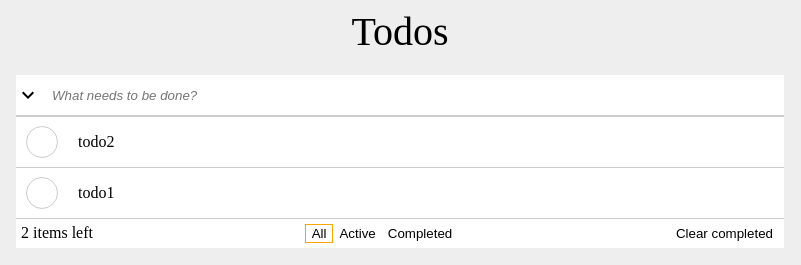
it: App component test › should toggle showed todos
Step 1. Click the button "Active" → coordinates (358, 234), box [334,225,382,242]
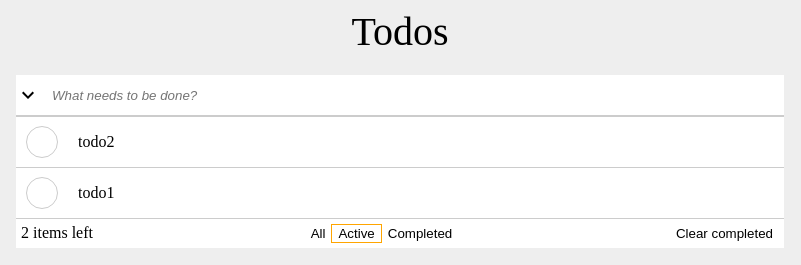
Expected: the number of elements with class "todo-item" is 2, [16,117,784,168]; [16,168,784,219]
Step 2. Click the button "Completed" → coordinates (420, 234), box [382,225,458,242]
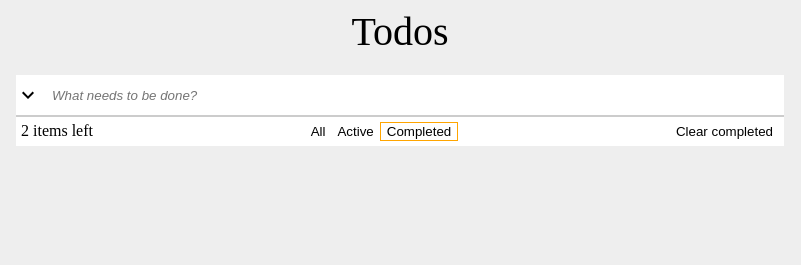
Expected: no elements with class "todo-item" are shown
